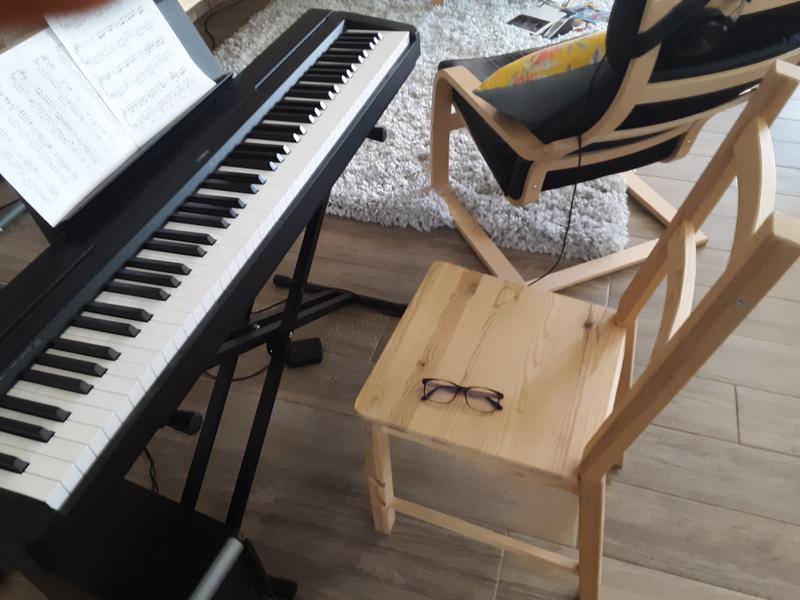glasses: (418, 374, 504, 414)
